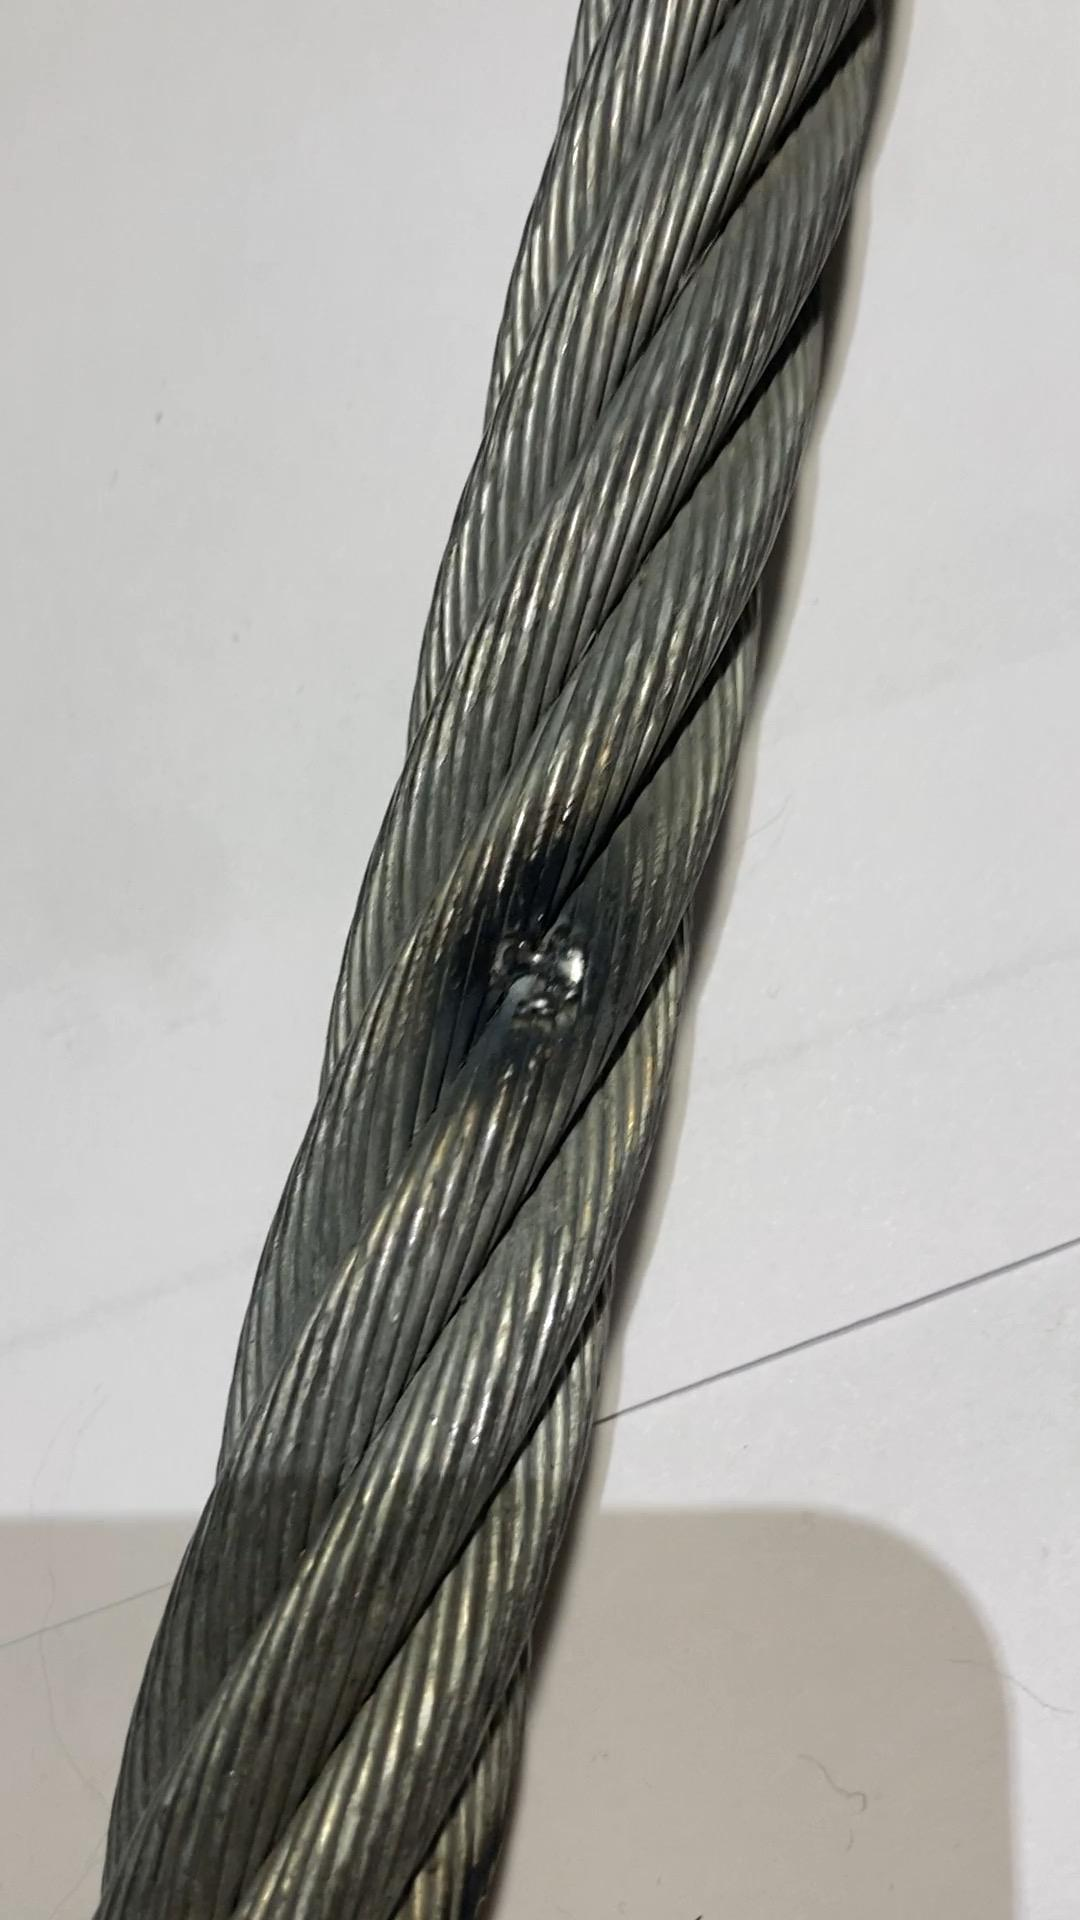thunderbolt: (452, 876, 636, 1069)
